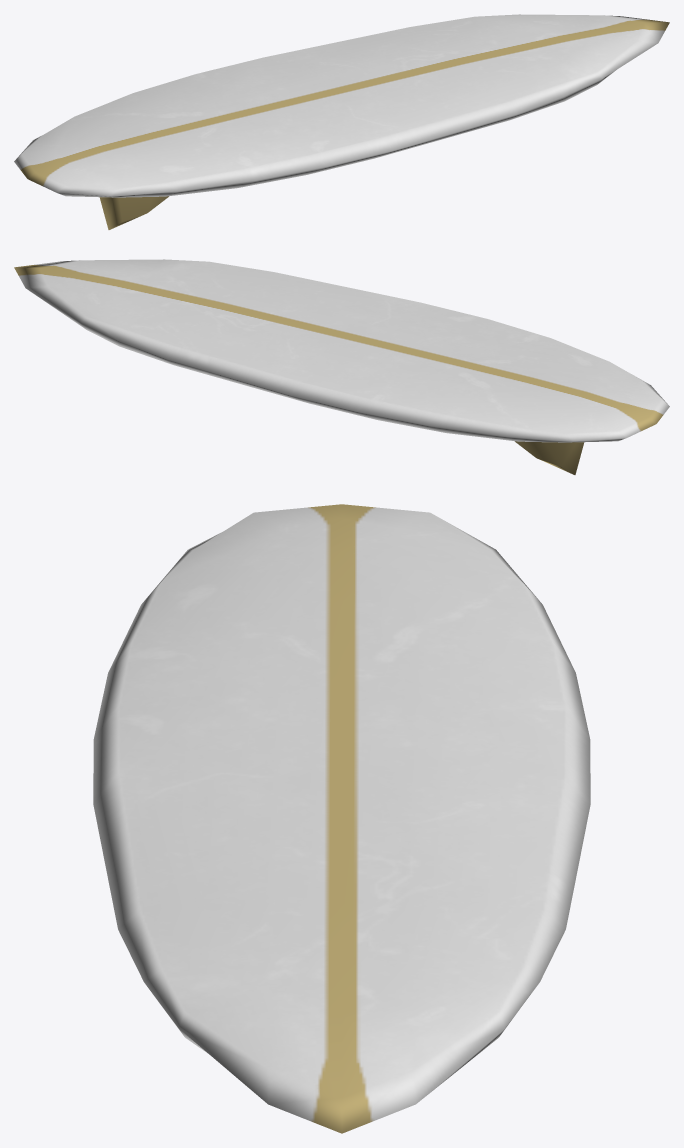
Rendered from surfbord.fbx.
3 renders of one model, top to bottom at view 1: azimuth 30°, elevation 25°; view 2: azimuth 150°, elevation 25°; view 3: azimuth 270°, elevation 25°, orthographic. The views are drawn at different scales.
Visible parts, largest first — view 1: Surfbord_geo; view 2: Surfbord_geo; view 3: Surfbord_geo.
Boxes of the visible parts, left/top/right/bottom form: Surfbord_geo: left=14, top=14, right=669, bottom=229; Surfbord_geo: left=14, top=259, right=669, bottom=474; Surfbord_geo: left=93, top=504, right=590, bottom=1133.
Size of the model in its own units: 1.94 by 0.2425 by 0.65.
Materials: 1 (1 with a texture image).
